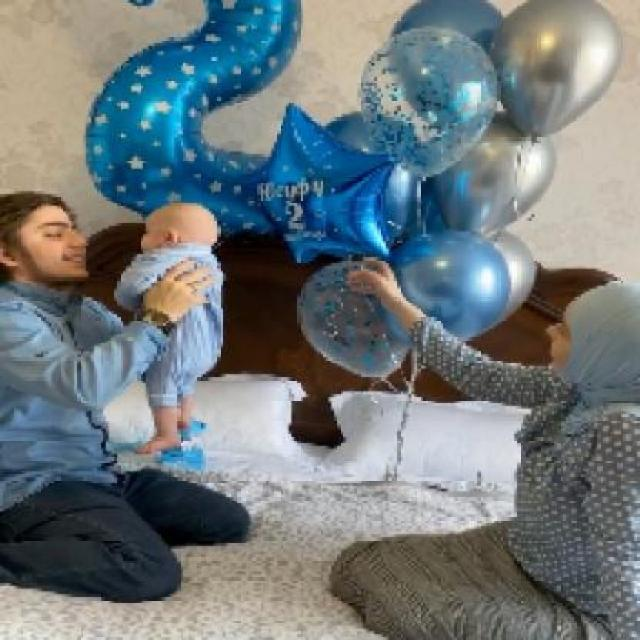child: (112, 202, 225, 455)
